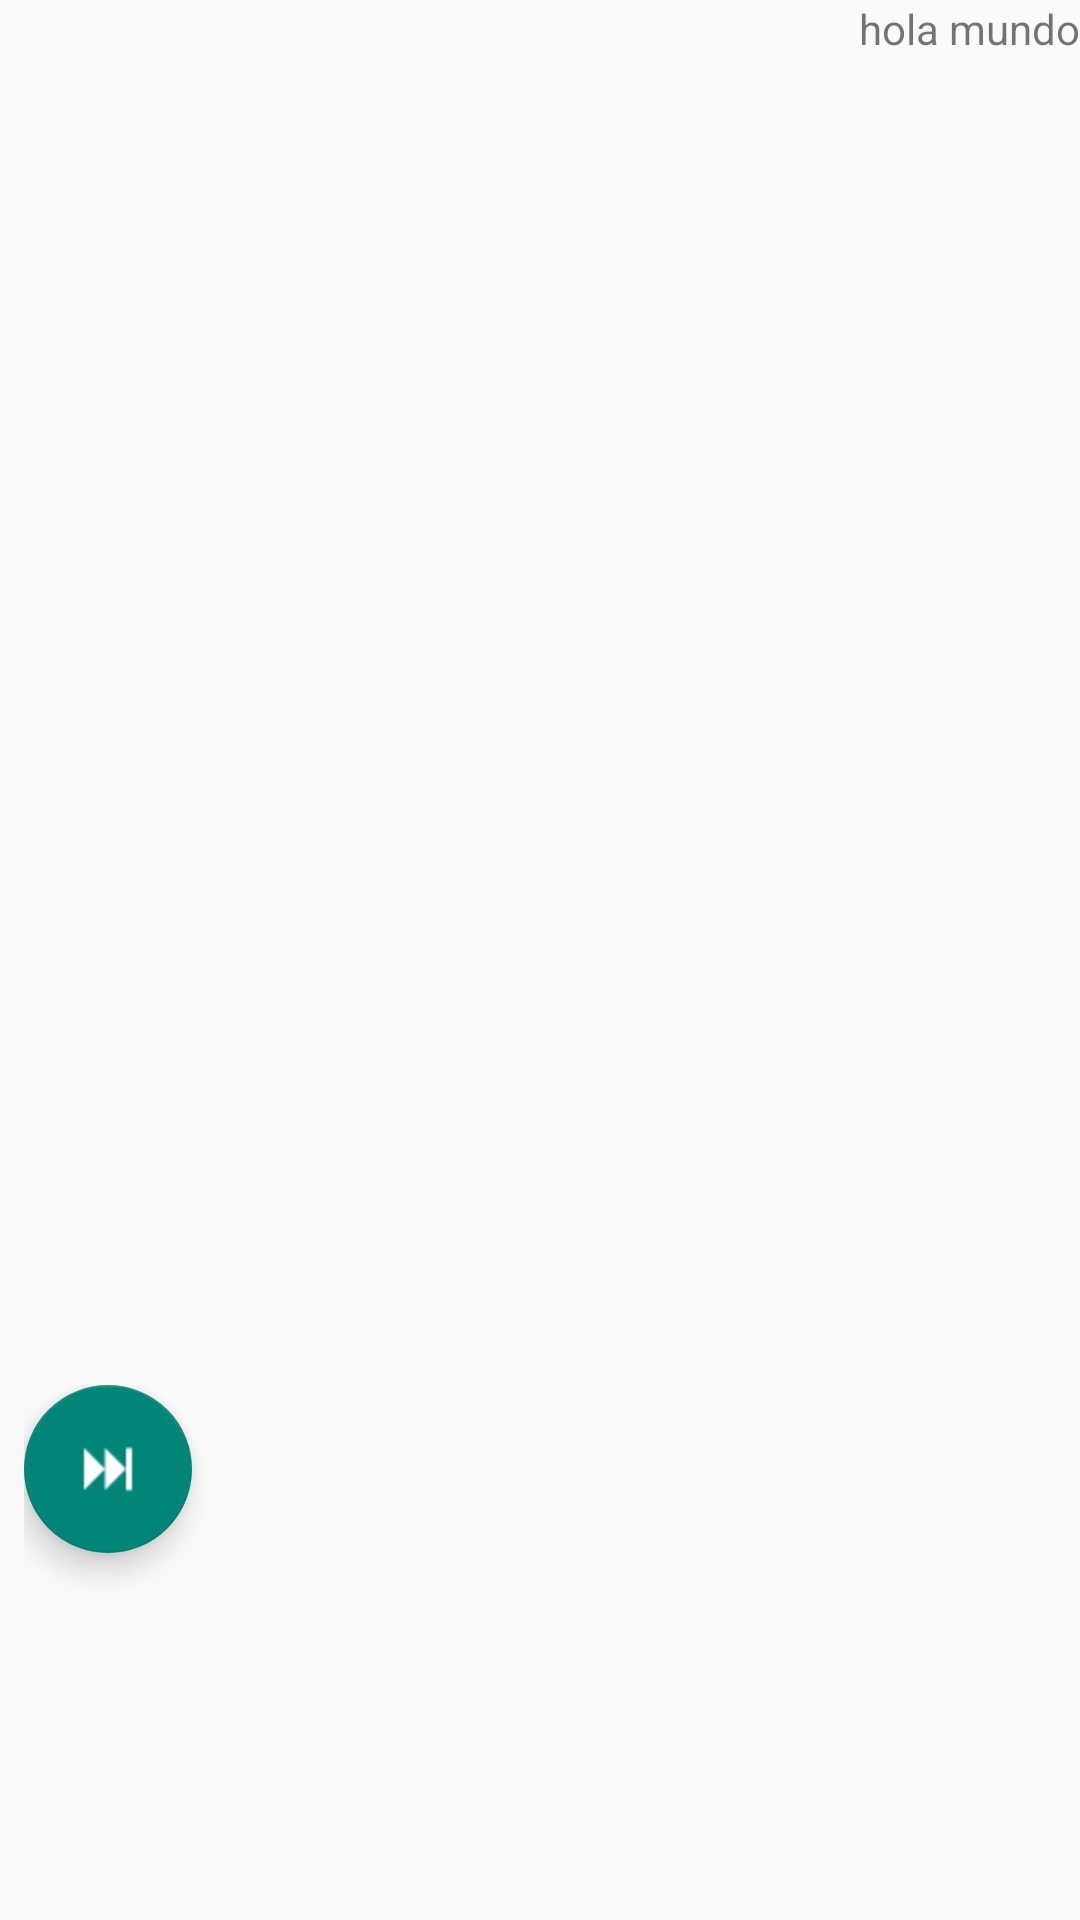

Point at icon controls on the screen. Image size 1080px x 1920px, points as point (x, y).
forward: point (108, 1469)
